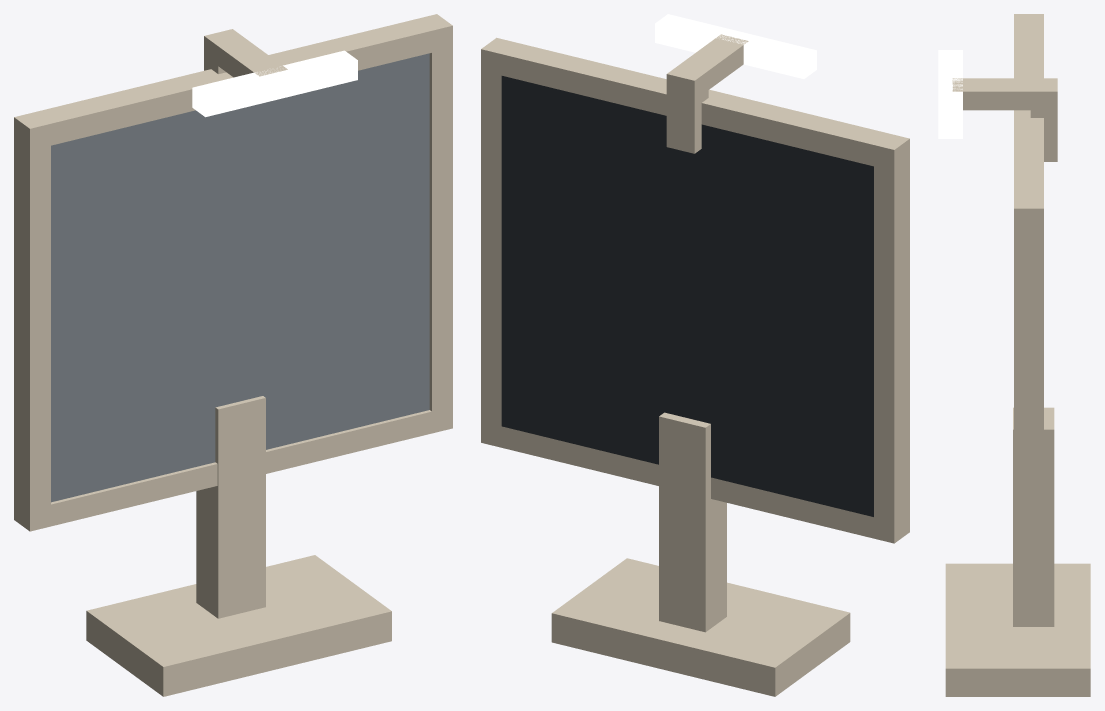
3 views of the same model, side by side, from view 1: azimuth 30°, elevation 25°; view 2: azimuth 150°, elevation 25°; view 3: azimuth 270°, elevation 25° (orthographic). The views are drawn at different scales.
Visible parts, largest first — view 1: makeup-face-center, makeup-frame-center, makeup-base, makeup-post, makeup-lamp, makeup-lamp-arm; view 2: makeup-back-center, makeup-frame-center, makeup-base, makeup-post, makeup-lamp, makeup-lamp-arm, makeup-lamp-riser; view 3: makeup-base, makeup-frame-center, makeup-post, makeup-lamp-arm, makeup-lamp, makeup-lamp-riser.
Part boxes in pixels (x1,y1,x2,y2): makeup-face-center: (51,53,429,502); makeup-frame-center: (14,14,452,531); makeup-base: (86,555,391,696); makeup-post: (196,396,265,618); makeup-lamp: (192,50,357,117); makeup-lamp-arm: (204,29,287,77); makeup-back-center: (501,76,873,516); makeup-frame-center: (481,37,909,543); makeup-base: (551,558,850,696); makeup-post: (659,412,726,632); makeup-lamp: (655,14,816,78); makeup-lamp-arm: (666,34,748,100); makeup-lamp-riser: (666,78,708,153); makeup-base: (945,563,1090,696); makeup-frame-center: (1014,14,1043,588); makeup-post: (1013,407,1054,626); makeup-lamp-arm: (952,78,1057,110); makeup-lamp: (938,50,962,138); makeup-lamp-riser: (1030,98,1057,161).
Size of the model in its own units: 0.444 by 0.595 by 0.147.
